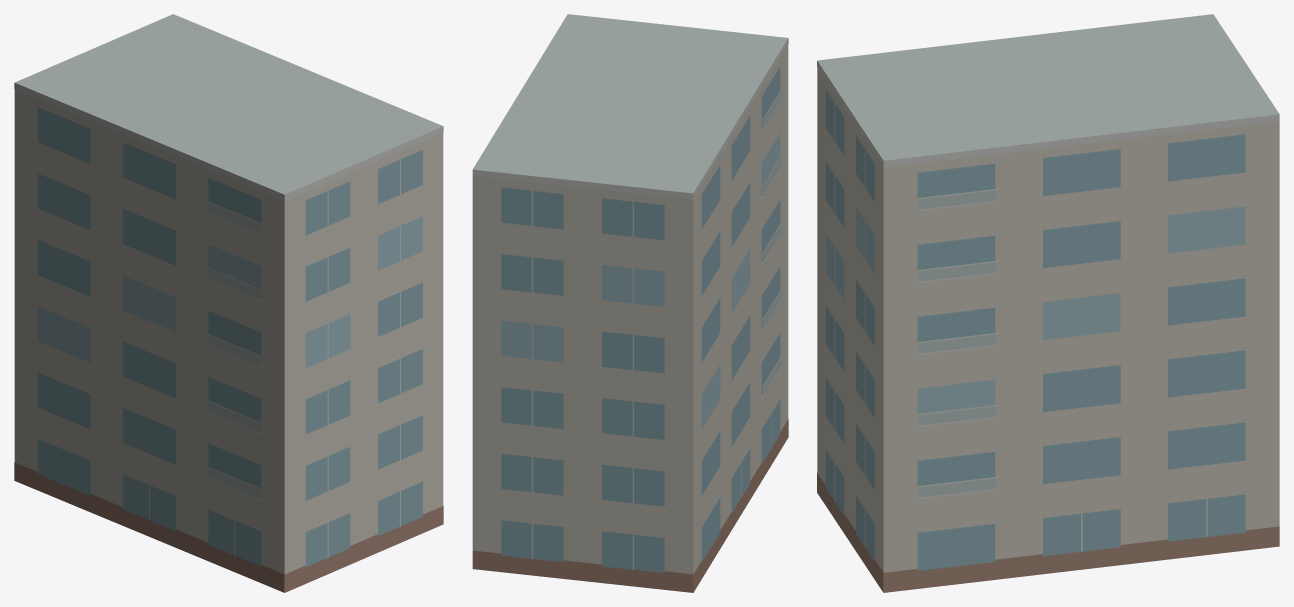
The model's file is survey-upis-32720548.glb.
3 renders of one model, left to right at view 1: azimuth 30°, elevation 25°; view 2: azimuth 150°, elevation 25°; view 3: azimuth 270°, elevation 25°, orthographic. The views are drawn at different scales.
Parts seen in each view (by area): view 1: survey-upis-32720548.tmp; view 2: survey-upis-32720548.tmp; view 3: survey-upis-32720548.tmp.
Boxes of the visible parts, x1,y1,x2,y2 form: survey-upis-32720548.tmp: [14, 14, 443, 592]; survey-upis-32720548.tmp: [472, 14, 788, 592]; survey-upis-32720548.tmp: [817, 14, 1279, 592].
Bounding box in the file's own units: 11.37 × 15.6 × 15.15.
